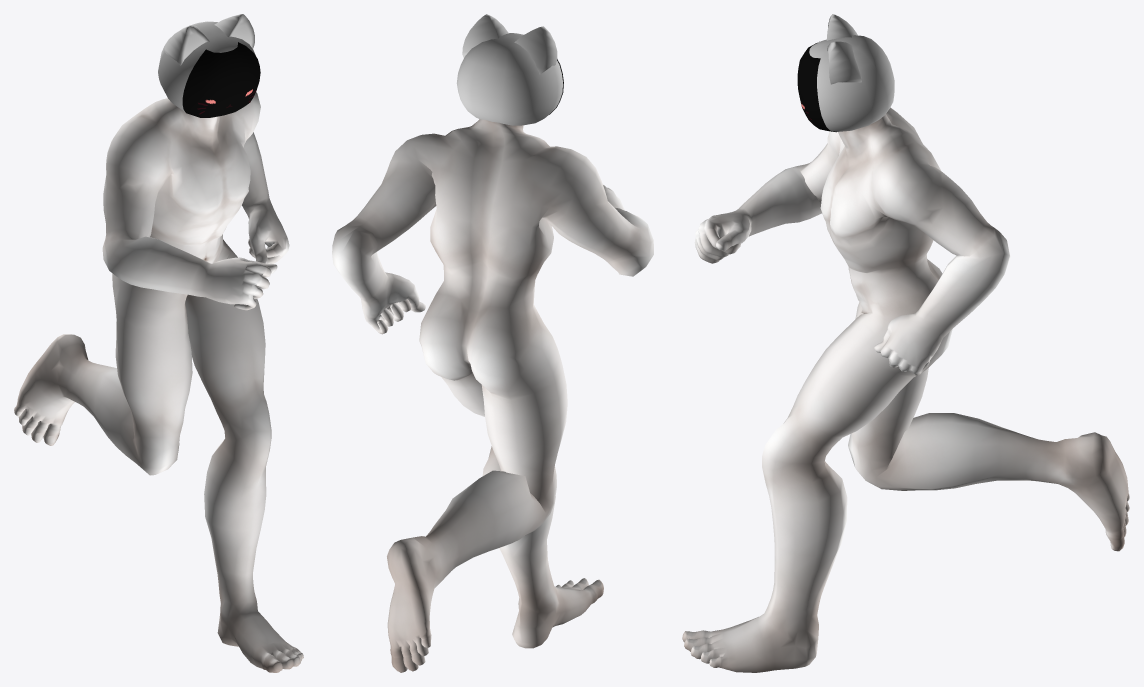
3 views of the same model, side by side, from view 1: azimuth 30°, elevation 25°; view 2: azimuth 150°, elevation 25°; view 3: azimuth 270°, elevation 25° (orthographic). The views are drawn at different scales.
Parts seen in each view (by area): view 1: Muscle_Body, ______?001, Cat_Head; view 2: Muscle_Body, Cat_Head; view 3: Muscle_Body, Cat_Head, ______?001.
Boxes of the visible parts, x1=… form: Muscle_Body: x1=14, y1=92, x2=303, y2=672; ______?001: x1=182, y1=42, x2=260, y2=117; Cat_Head: x1=158, y1=14, x2=255, y2=111; Muscle_Body: x1=332, y1=119, x2=653, y2=672; Cat_Head: x1=456, y1=14, x2=562, y2=125; Muscle_Body: x1=682, y1=107, x2=1129, y2=672; Cat_Head: x1=809, y1=14, x2=894, y2=131; ______?001: x1=797, y1=41, x2=836, y2=132.
Bounding box in the file's own units: 10.47 × 27.55 × 17.62.
